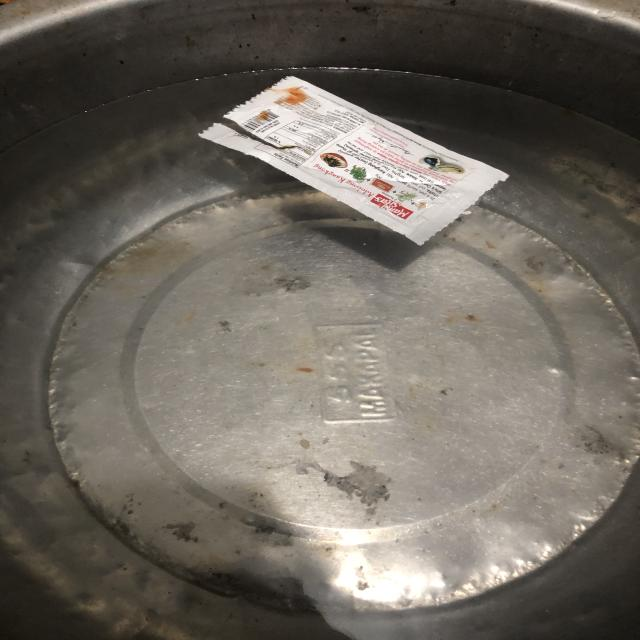Plastic Wrapper: (184, 72, 499, 258)
